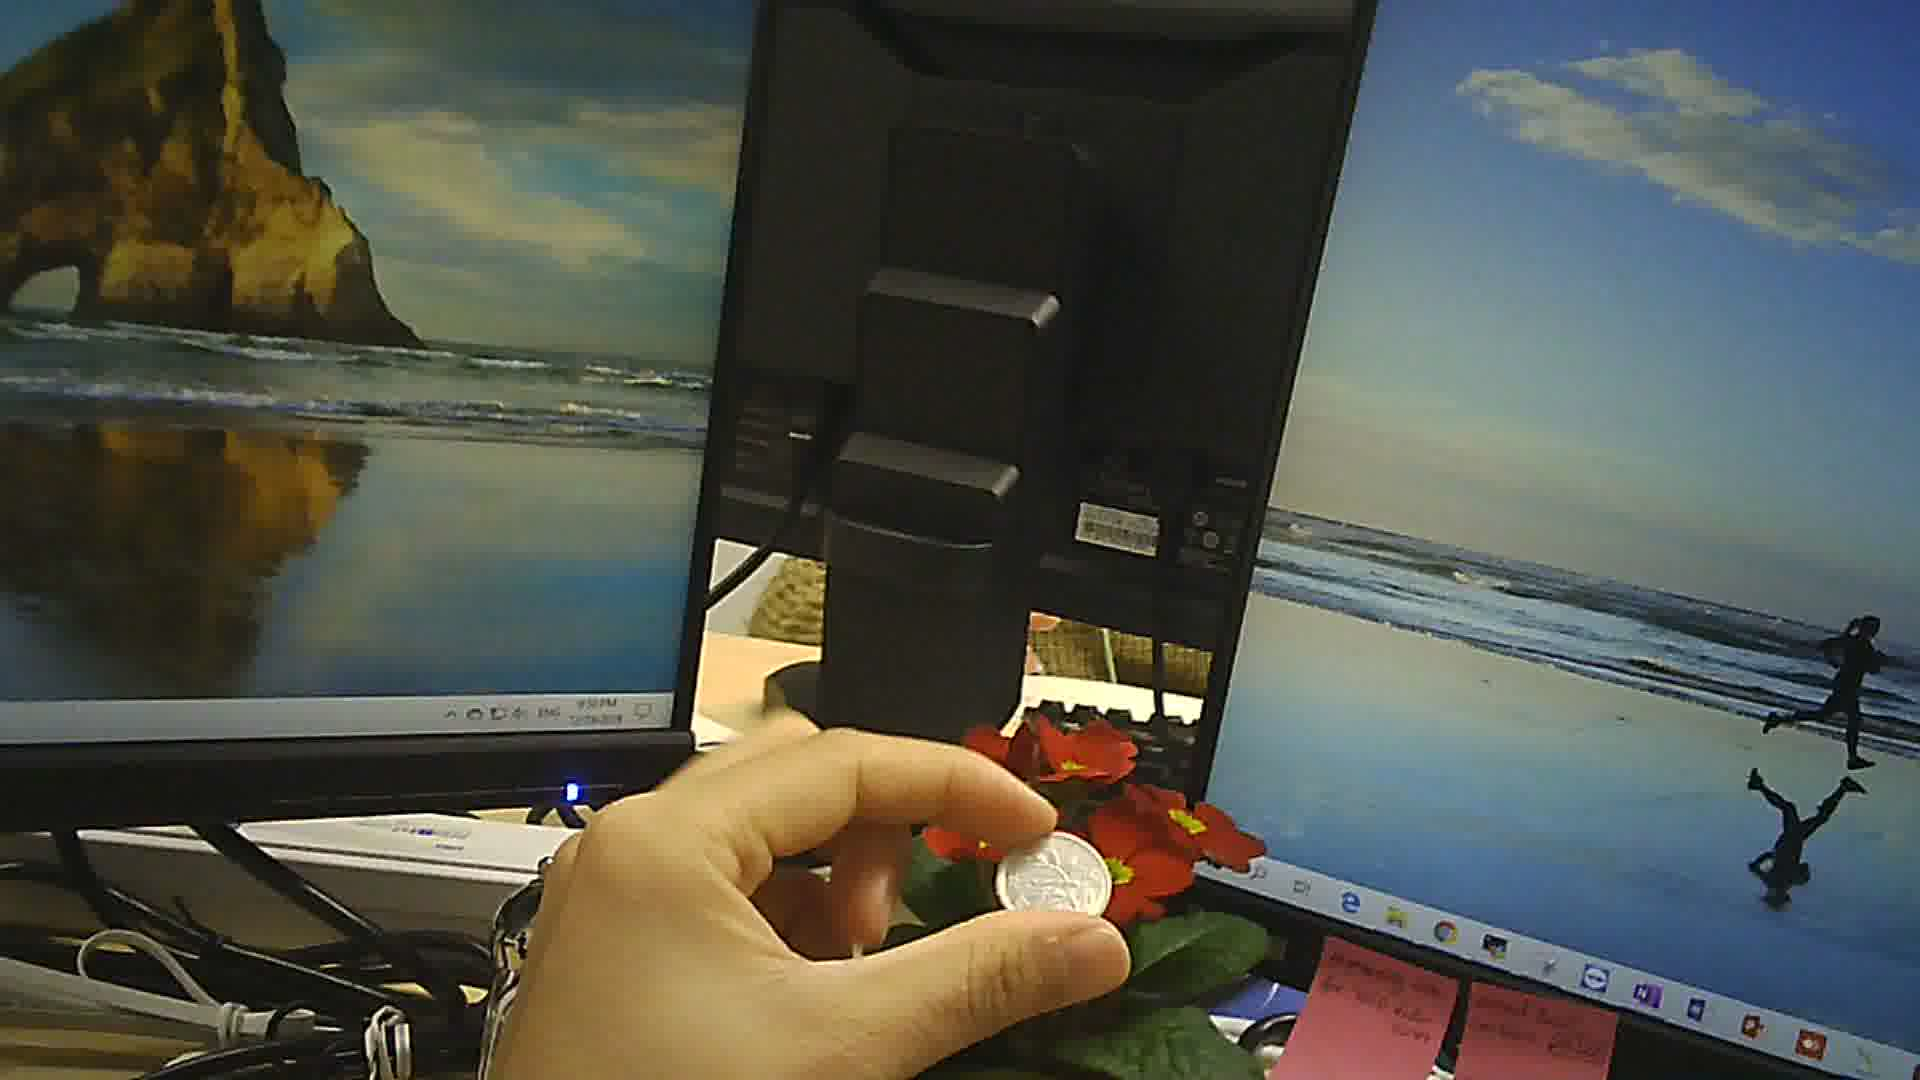1 Yen: (984, 819, 1116, 928)
